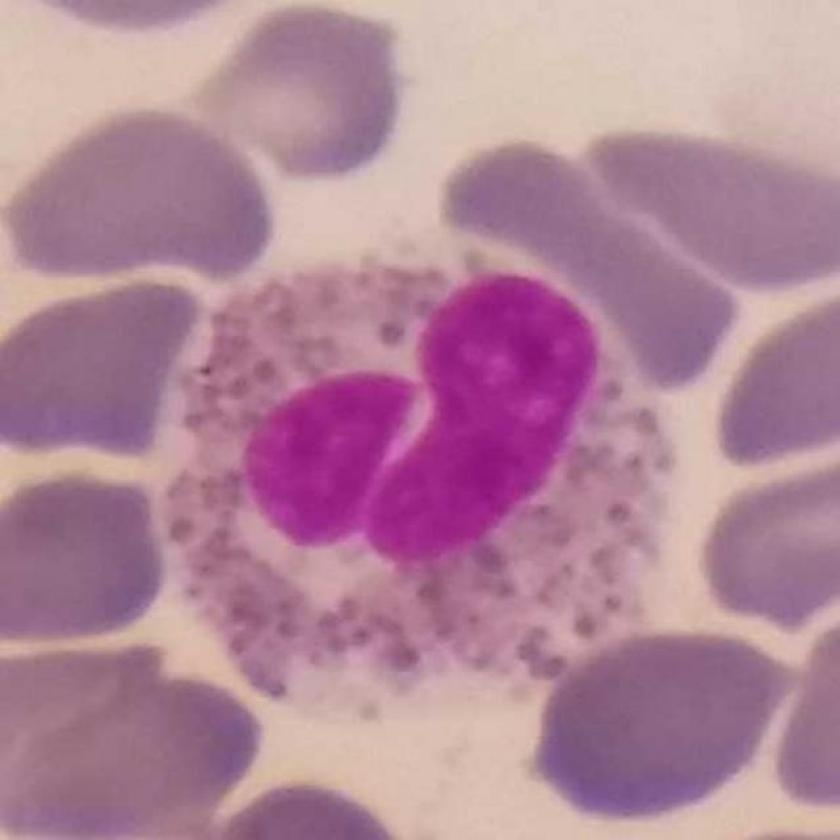eosinophil: (160, 251, 711, 717)
